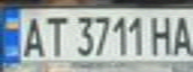1: (127, 12, 148, 56), (109, 12, 130, 56)
3: (72, 11, 96, 57)
7: (90, 12, 112, 56)
A: (18, 12, 48, 59), (169, 11, 193, 56)
H: (148, 12, 175, 56)
T: (39, 12, 69, 57)
